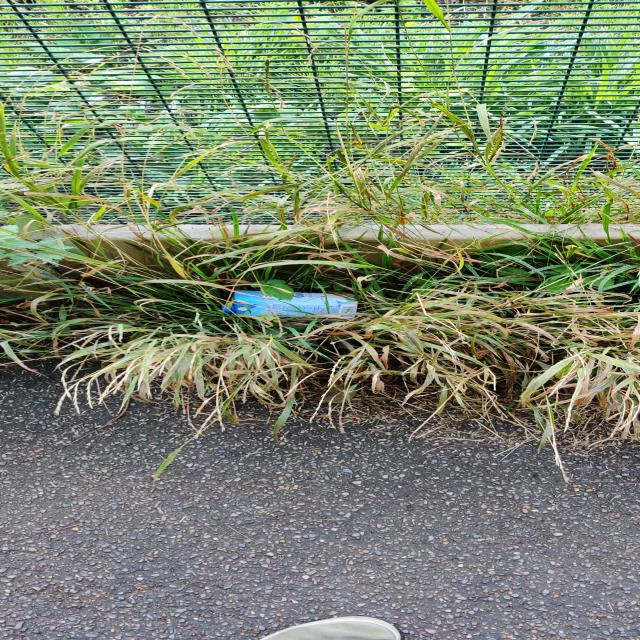litter: (221, 290, 359, 321)
